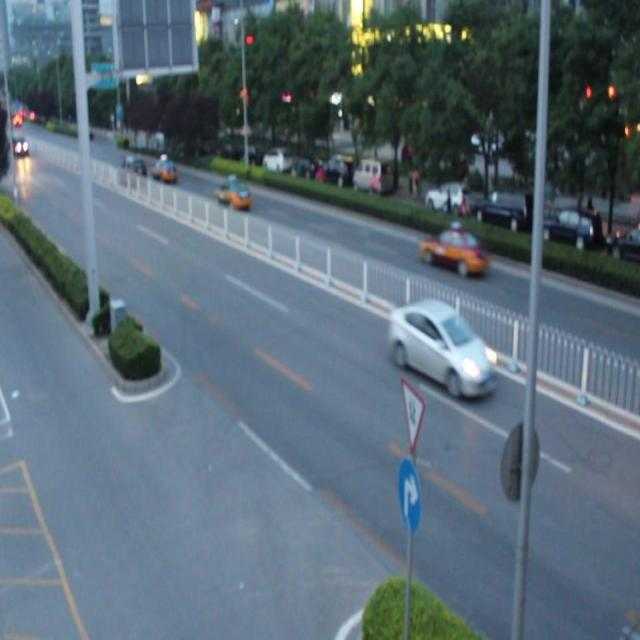car: (390, 300, 496, 396), (421, 226, 487, 274), (214, 178, 250, 210), (120, 158, 145, 185), (150, 159, 177, 181)
